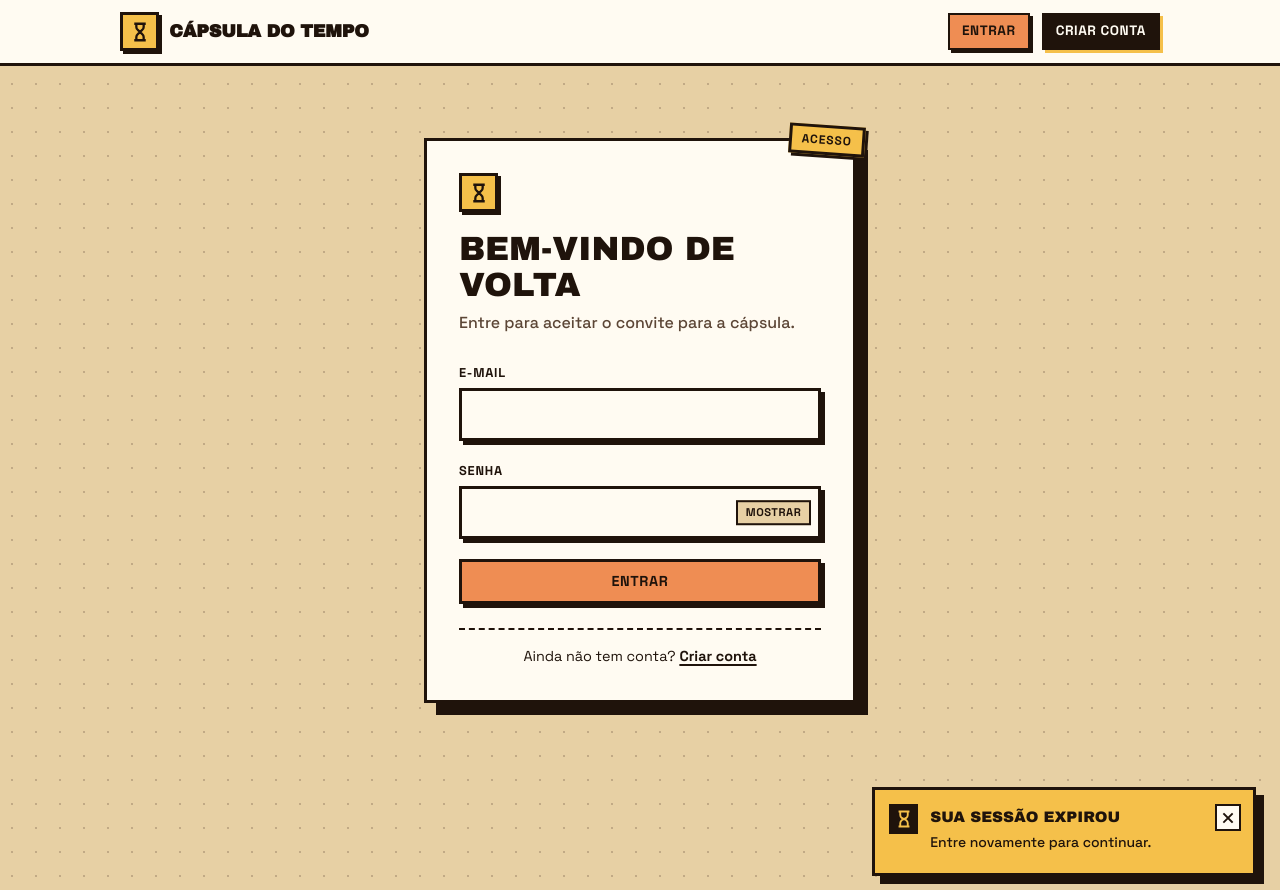
Test case: ConvitePage (/convite/:token) › with a session › asks for login again and returns to the invite when the session expired
The image size is (1280, 890).
Expected: the heading "Bem-vindo de volta" is shown, [459, 231, 735, 303]
Expected: the text "Sua sessão expirou" is shown, [930, 809, 1120, 825]
Type "bruno@example.com" into the field labelled "E-mail" at x=640, y=415, box [459, 388, 821, 441]
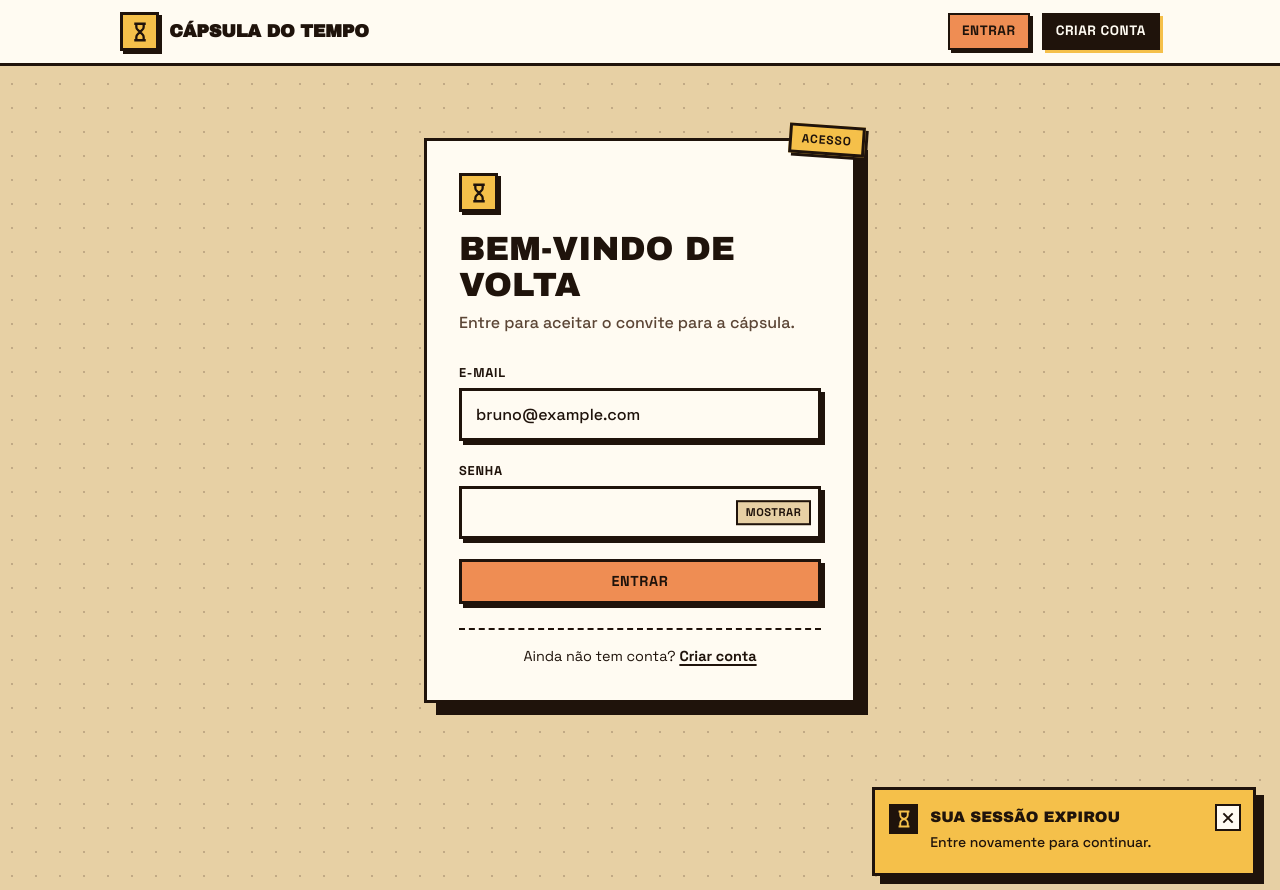
Type "segredo123" into the password field labelled "Senha" at x=640, y=513, box [459, 486, 821, 539]
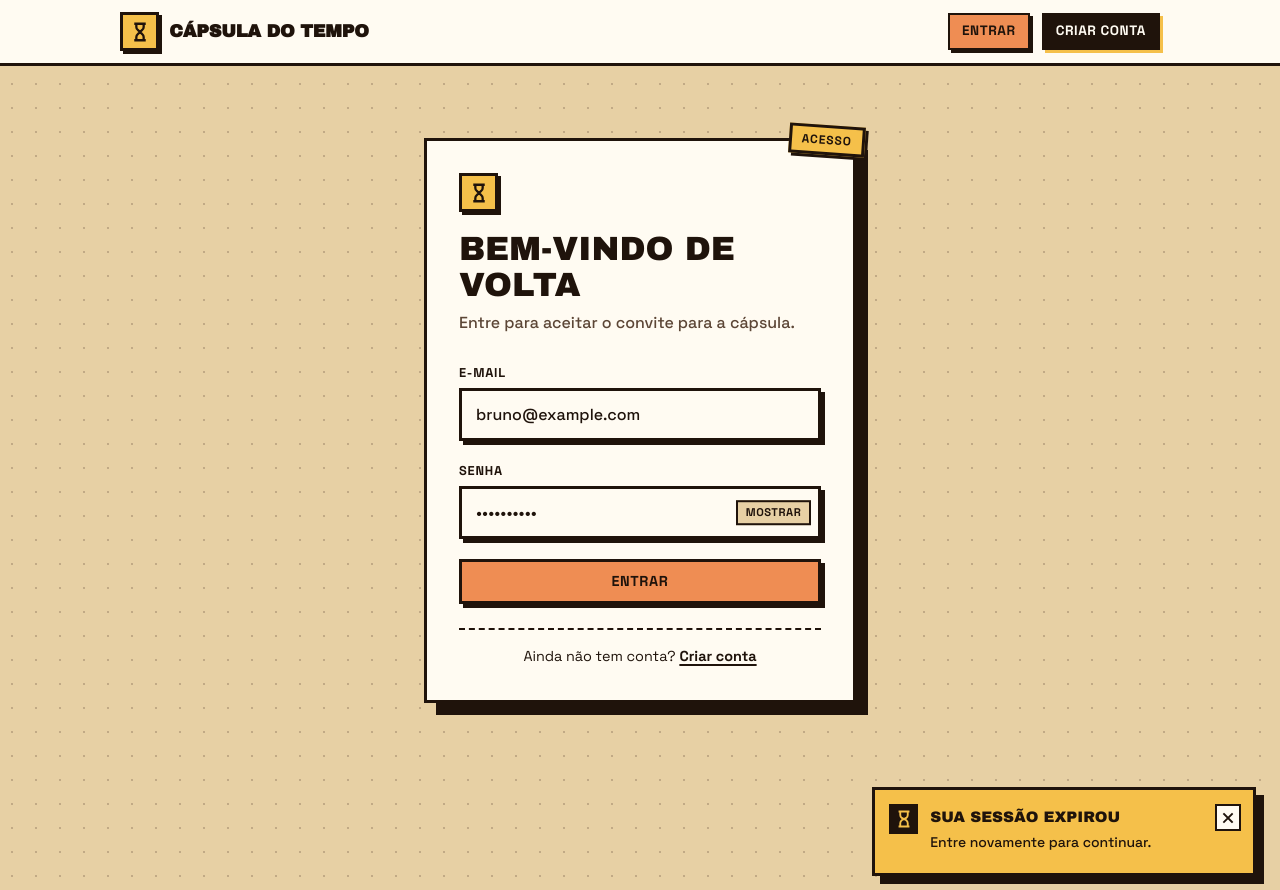
Click the button "Entrar" at x=640, y=582, box [459, 559, 821, 604]
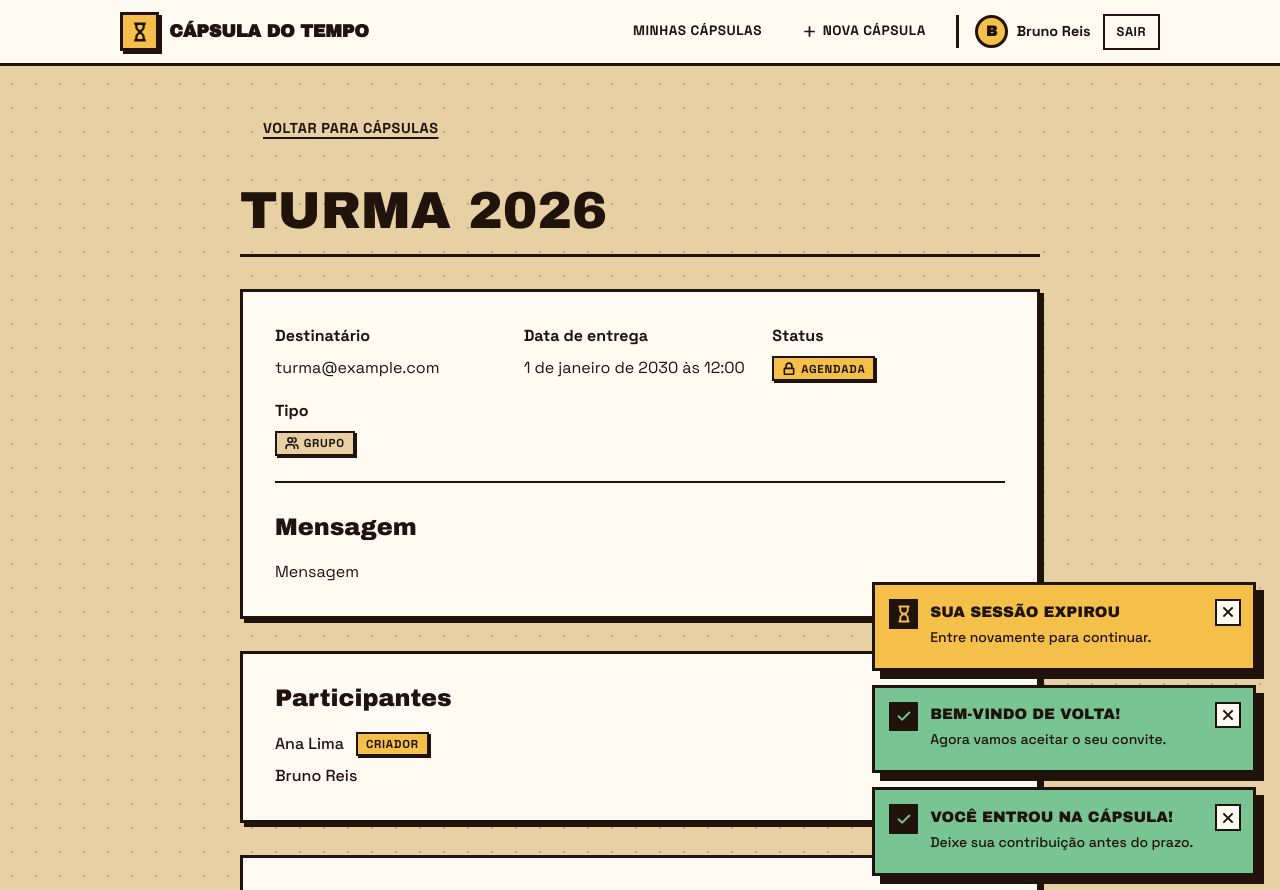
Result: the heading "Turma 2026" is shown at [240, 184, 607, 238]
